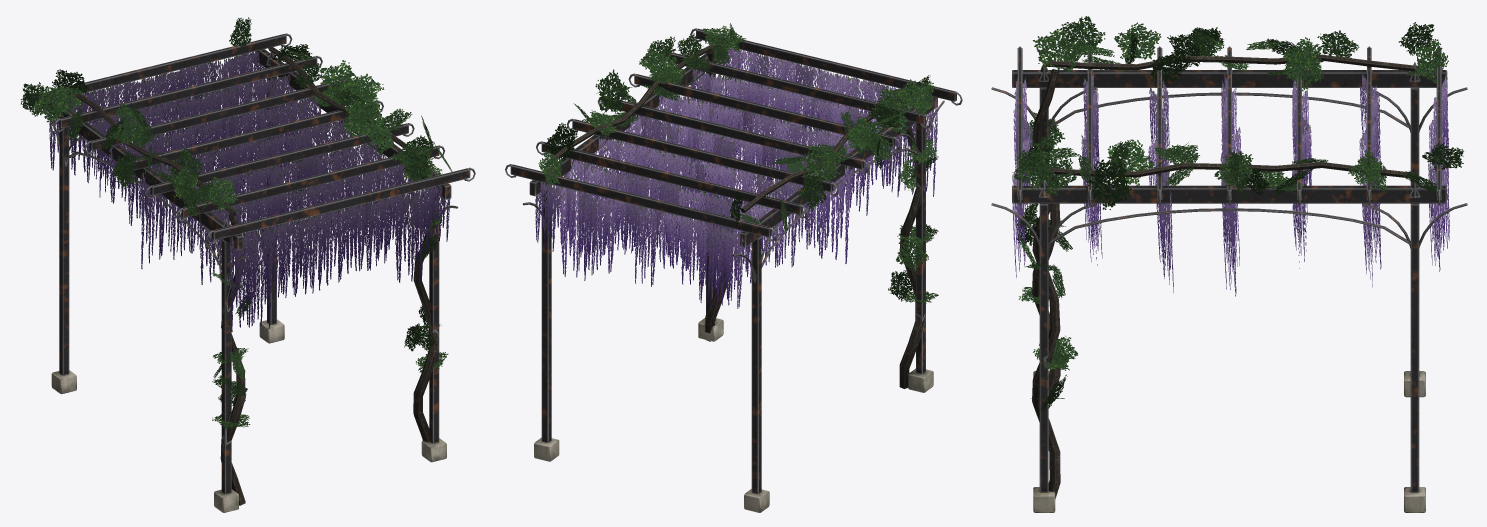
File: WisteriaPergola.fbx
The picture shows the model from 3 angles, left to right: view 1: azimuth 30°, elevation 25°; view 2: azimuth 150°, elevation 25°; view 3: azimuth 270°, elevation 25°; orthographic projection. The views are drawn at different scales.
Parts seen in each view (by area): view 1: WisteriaPergola_Leaves, WisteriaPergola_Main; view 2: WisteriaPergola_Leaves, WisteriaPergola_Main; view 3: WisteriaPergola_Main, WisteriaPergola_Leaves.
Boxes of the visible parts, <box> form: WisteriaPergola_Leaves: <box>20,17,452,428</box>; WisteriaPergola_Main: <box>23,33,475,512</box>; WisteriaPergola_Leaves: <box>535,23,938,312</box>; WisteriaPergola_Main: <box>505,28,962,512</box>; WisteriaPergola_Main: <box>991,46,1467,512</box>; WisteriaPergola_Leaves: <box>1012,16,1463,410</box>.
Bounding box in the file's own units: 947 × 1021 × 1194.
